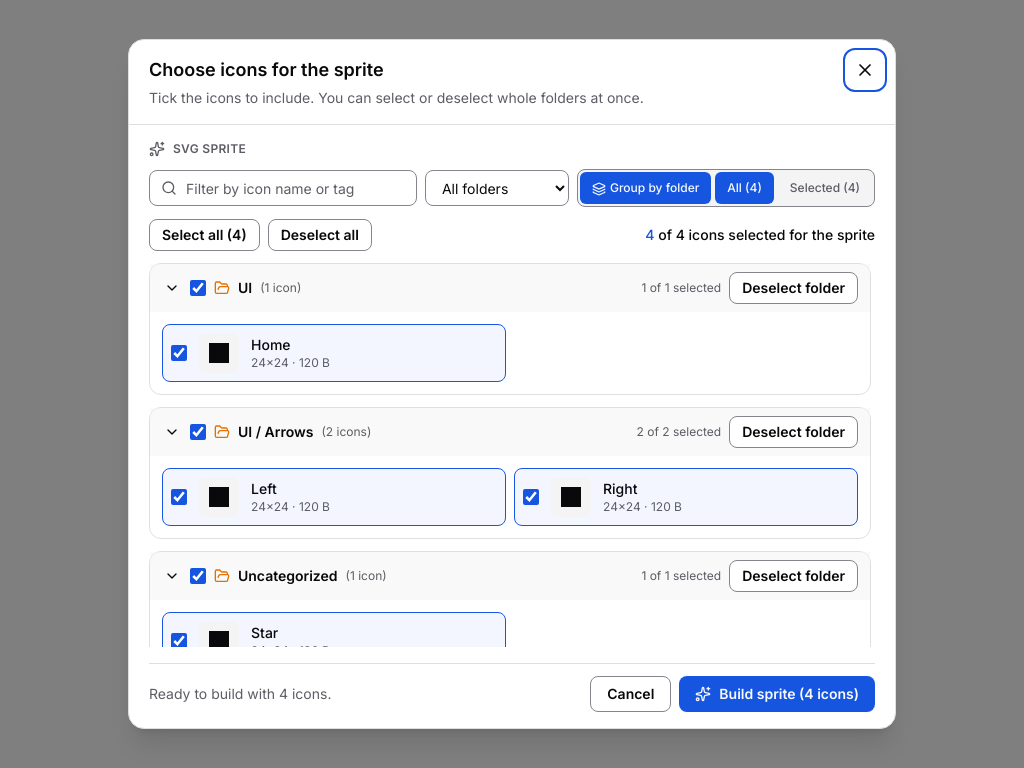
grouping by folder › selects and deselects a whole folder, showing a partial state
What coordinates should you click on to do the following:
click the button "Deselect folder" in the row of "2 icons"
I would click on:
 (794, 432)
Its box is [729,416,858,448].
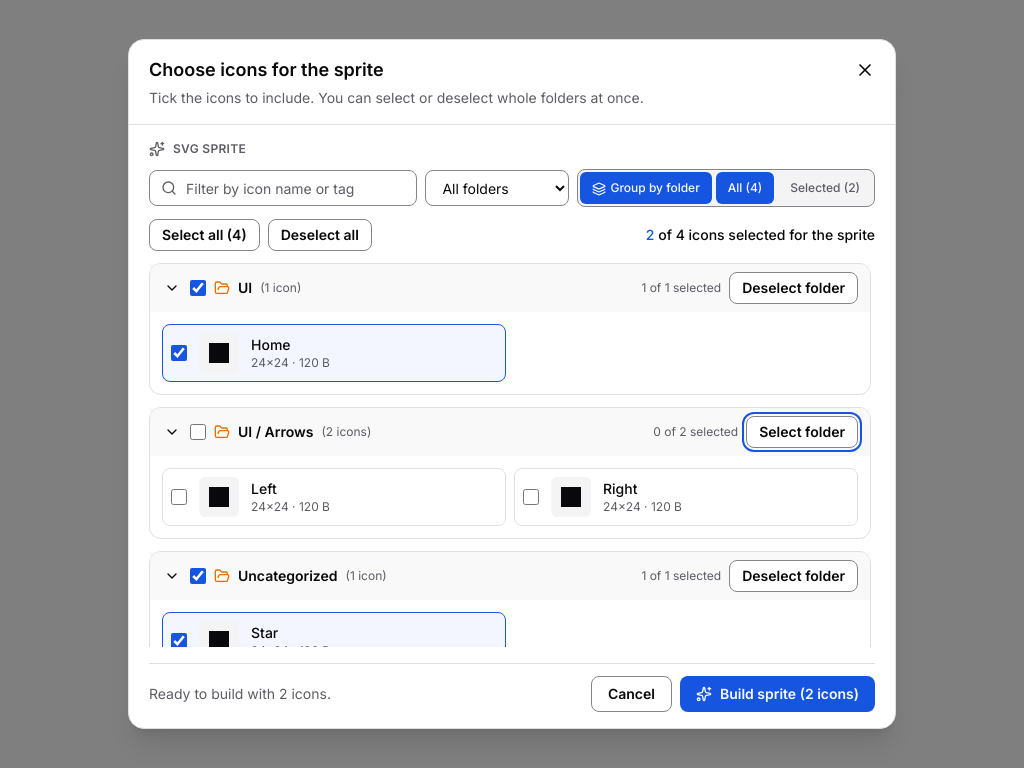
Expected: the text "0 of 2 selected" is shown, [653,424,738,440]
Expected: the text "2 of 4 icons selected for the sprite" is shown, [646,225,875,245]
What coordinates should you click on to do the following:
click the checkbox labelled "Left 24×24 · 120 B"
I would click on:
 (179, 497)
Its box is [171,489,187,505].
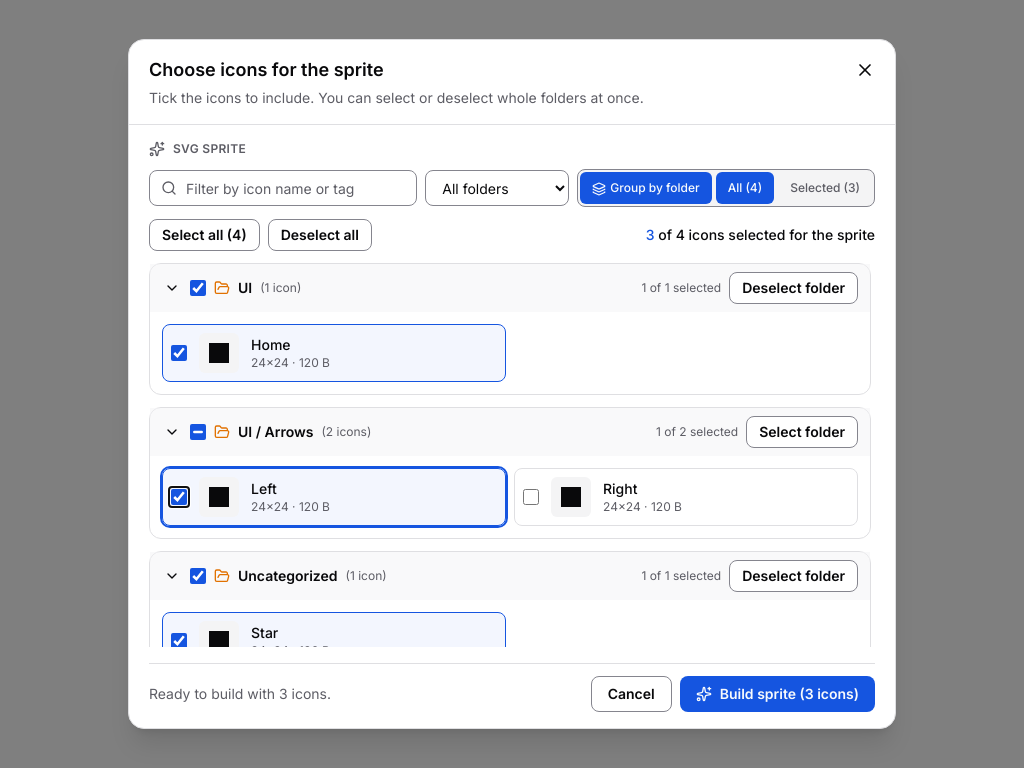
What coordinates should you click on to do the following:
click the button "Select folder"
I would click on:
 (802, 432)
Its box is [746,416,858,448].
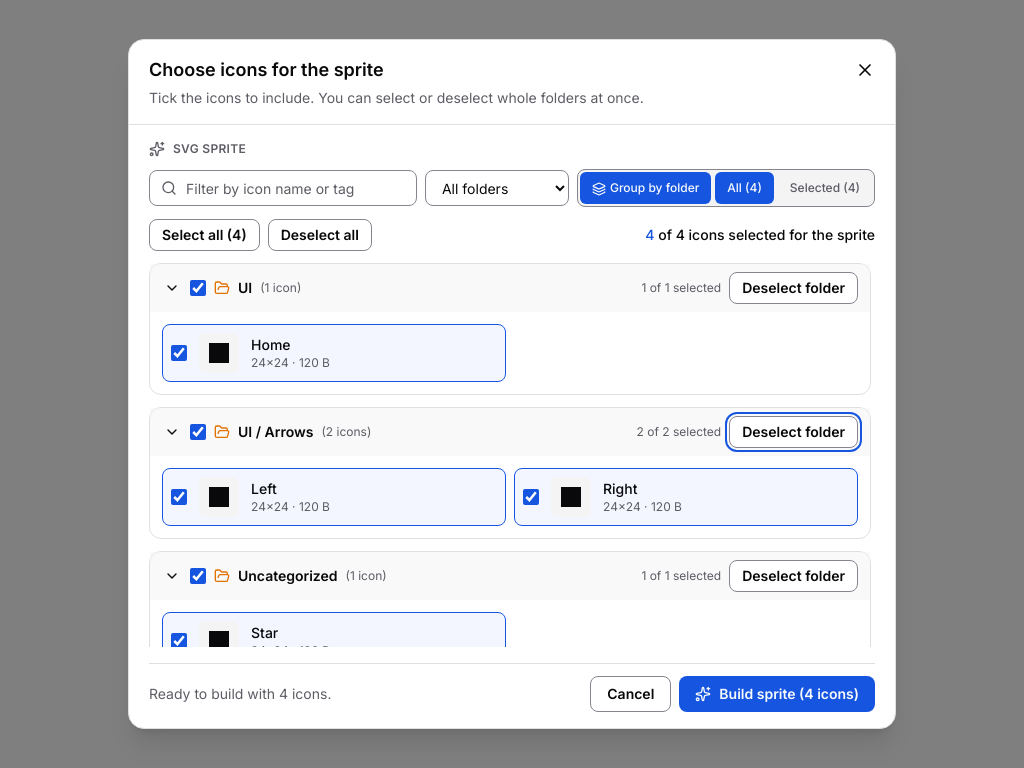
Expected: the text "2 of 2 selected" is shown, [636,424,721,440]
What coordinates should you click on to do the following:
click the checkbox named "Select all in UI / Arrows"
I would click on:
 (198, 432)
Its box is [190,424,206,440].
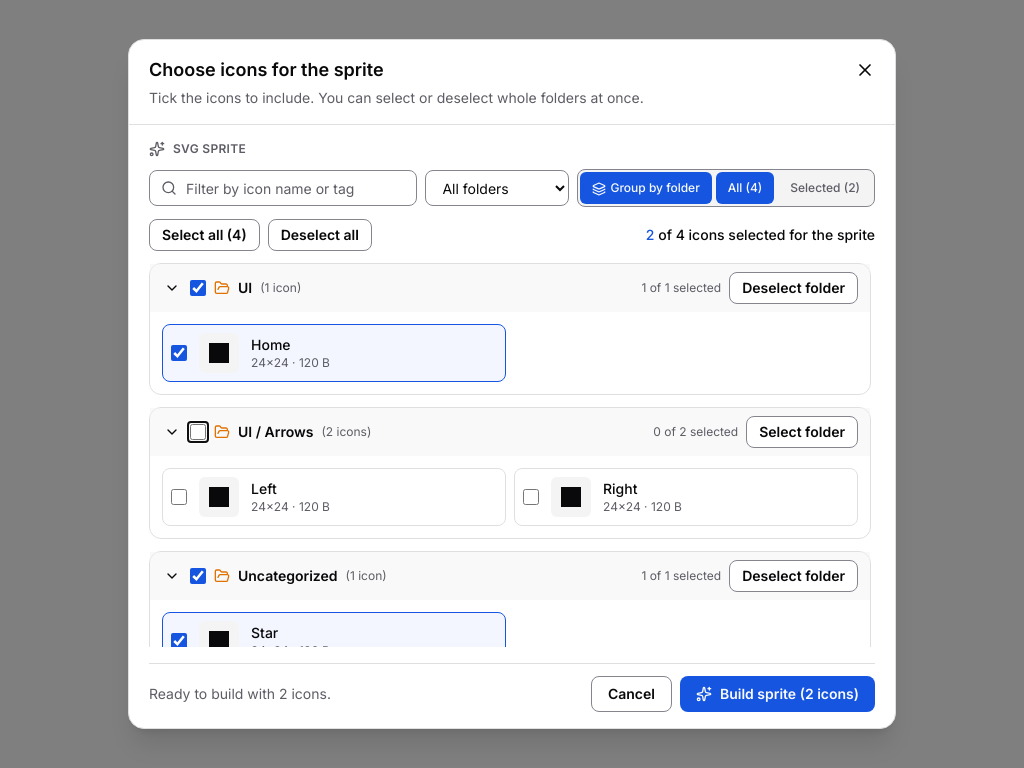
Expected: the text "0 of 2 selected" is shown, [653,424,738,440]
